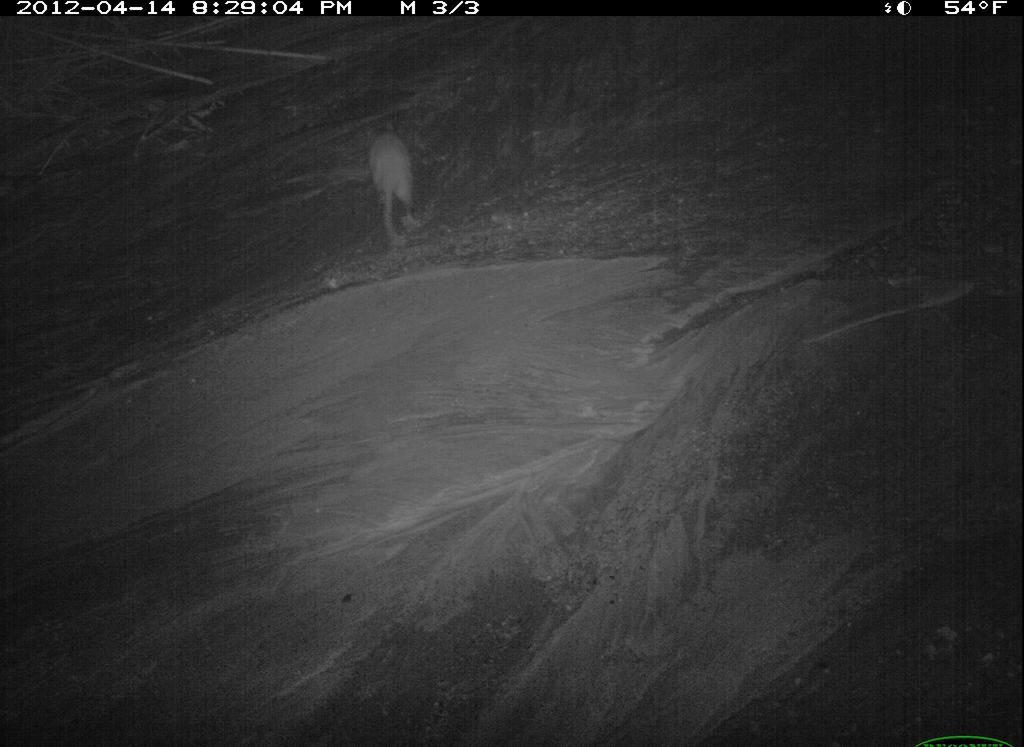opossum: (721, 231, 849, 501)
